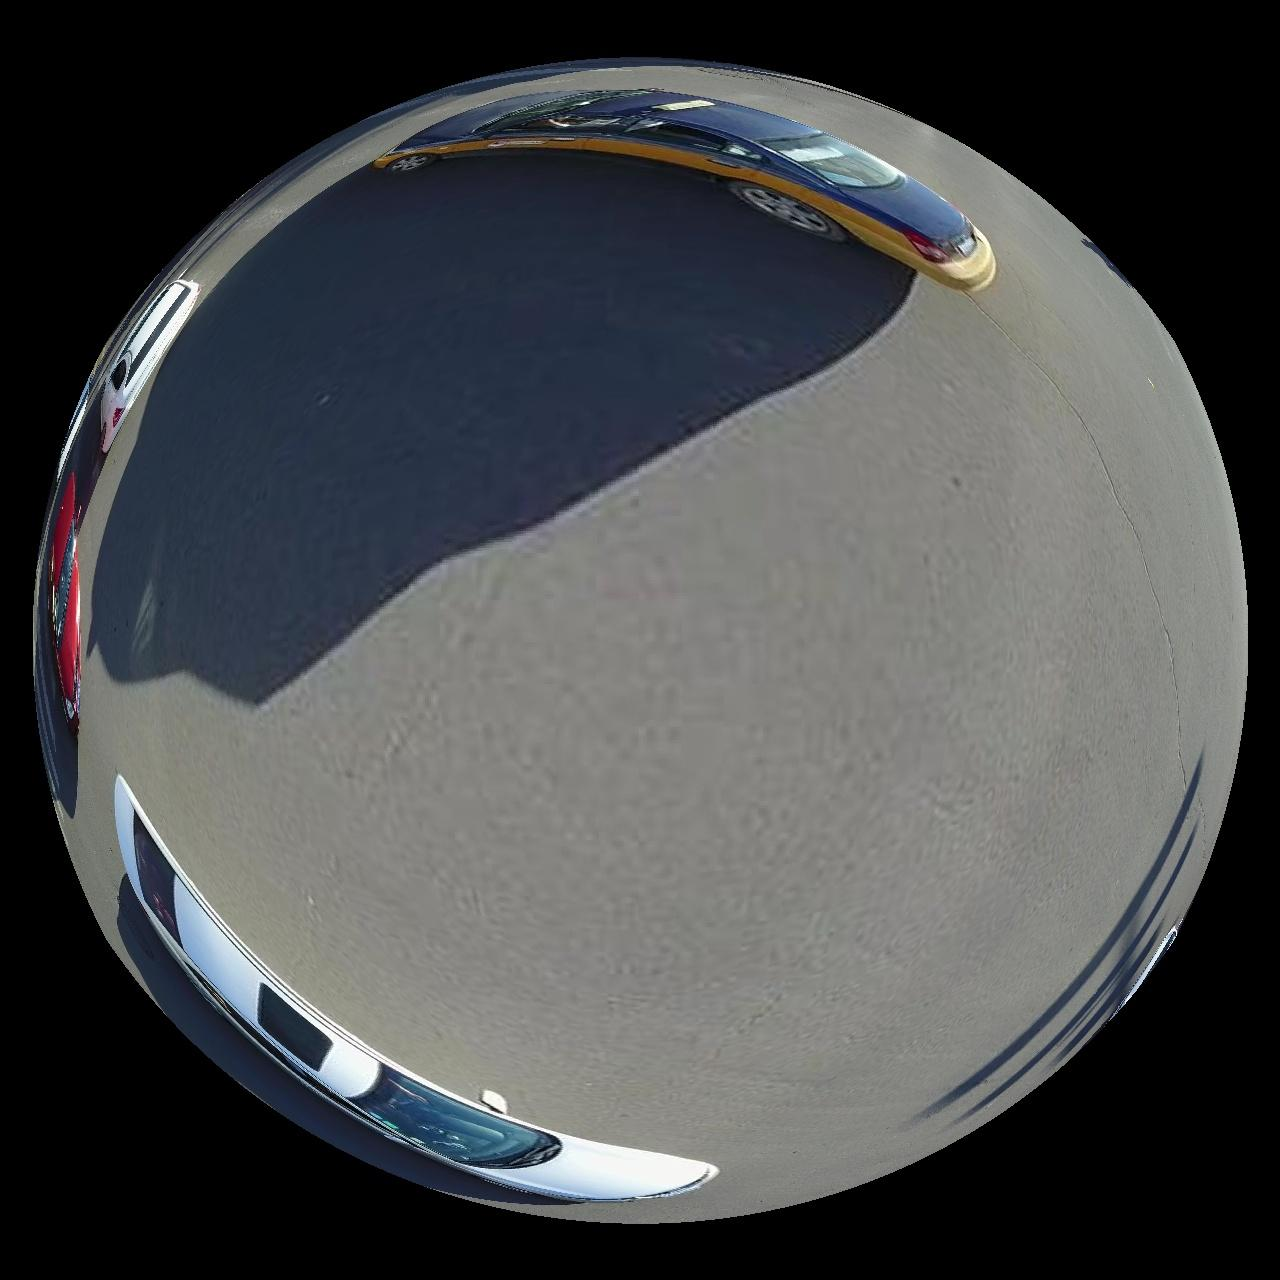cars: (114, 778, 719, 1204), (374, 87, 998, 290), (98, 279, 199, 451), (45, 472, 79, 731)
